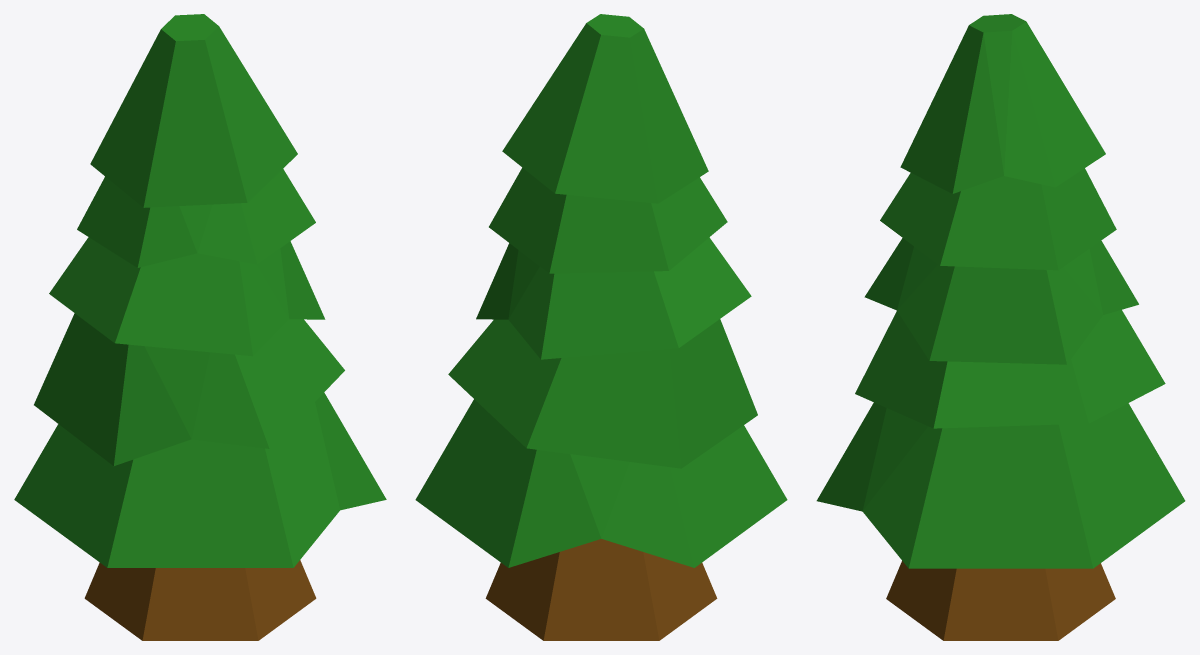
The model's file is treeV3.dae.
3 views of the same model, side by side, from view 1: azimuth 30°, elevation 25°; view 2: azimuth 150°, elevation 25°; view 3: azimuth 270°, elevation 25° (orthographic).
Parts seen in each view (by area): view 1: Leaves2, Trunk2; view 2: Leaves2, Trunk2; view 3: Leaves2, Trunk2.
Boxes of the visible parts, left/top/right/bottom form: Leaves2: left=14, top=14, right=386, bottom=567; Trunk2: left=84, top=560, right=316, bottom=640; Leaves2: left=415, top=14, right=787, bottom=567; Trunk2: left=485, top=539, right=717, bottom=640; Leaves2: left=816, top=14, right=1185, bottom=568; Trunk2: left=886, top=561, right=1115, bottom=640.
Size of the model in its own units: 4.16 by 4.8 by 8.21.
